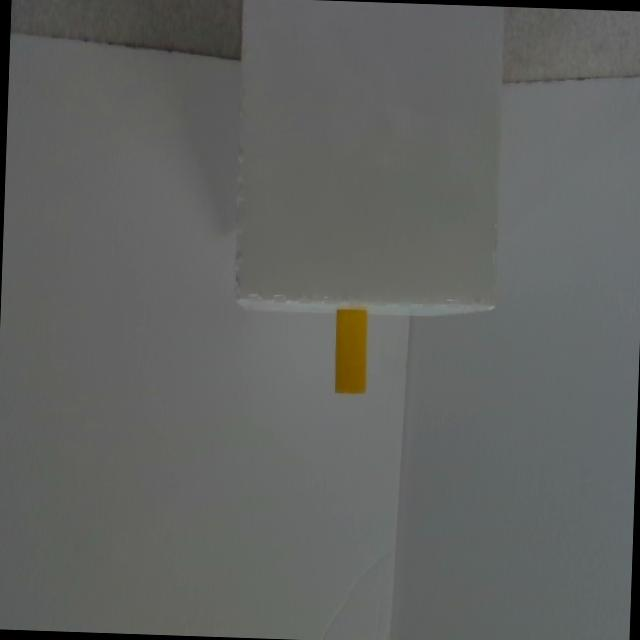yellow_cylinder: (334, 309, 368, 394)
